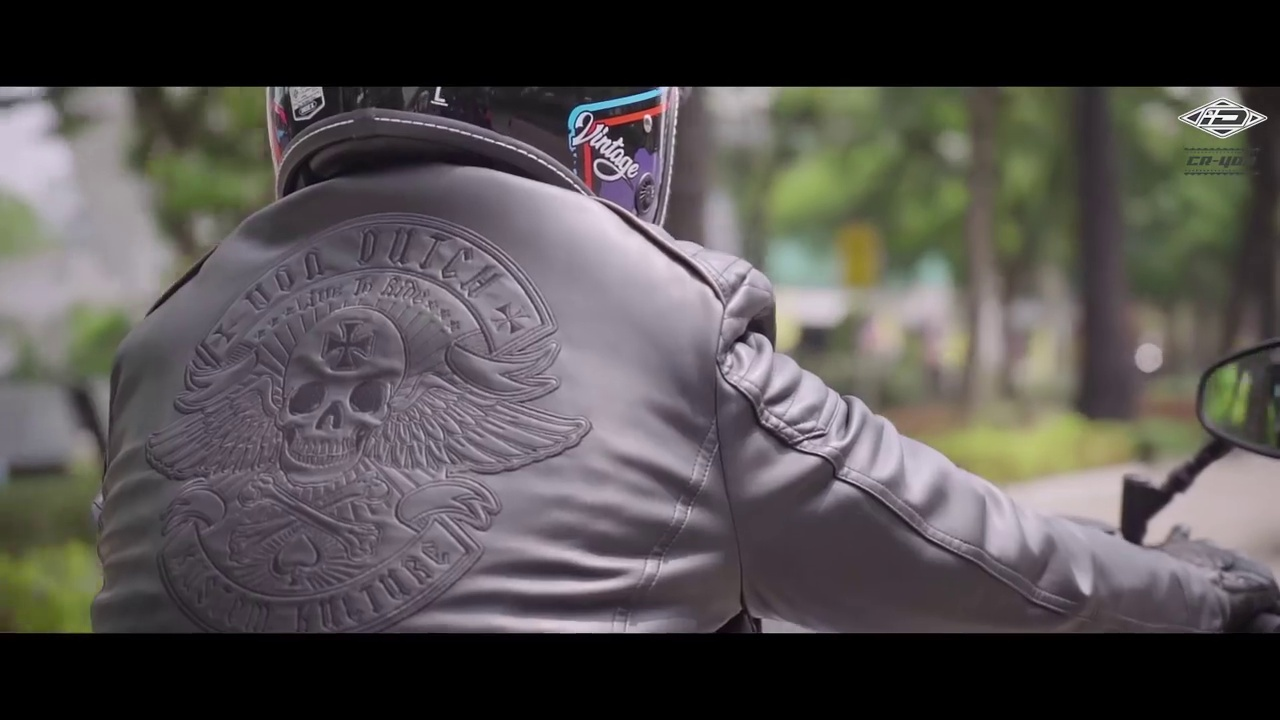helmet: (237, 85, 702, 230)
